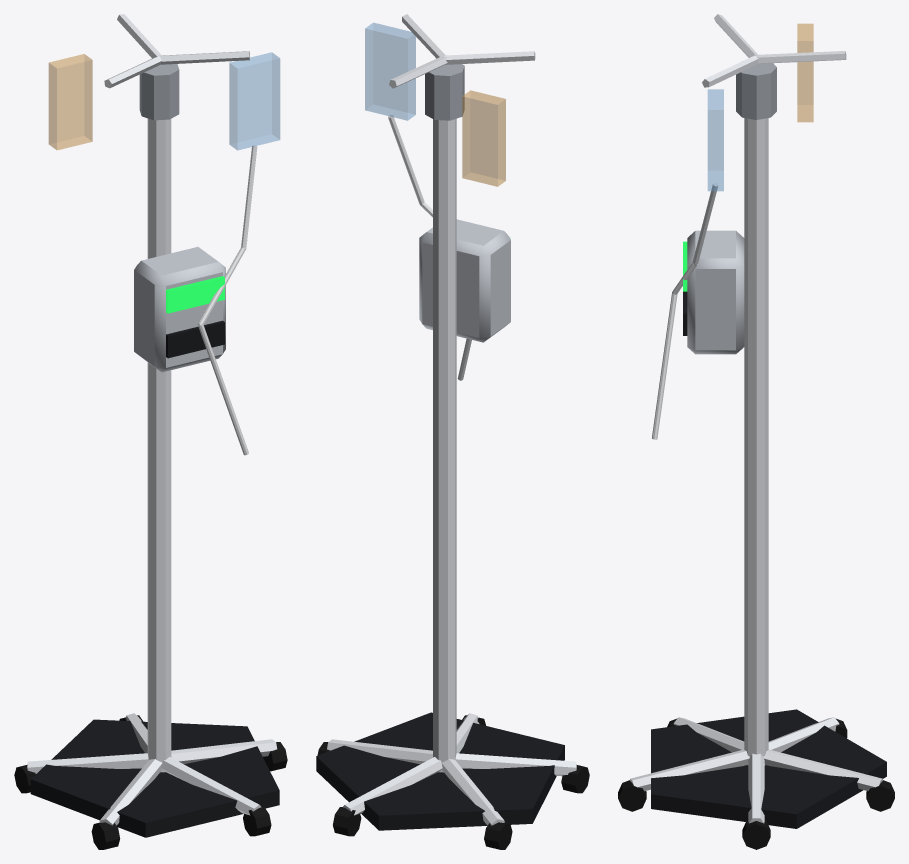
File: medsupply_iv_stand.glb
3 views of the same model, side by side, from view 1: azimuth 30°, elevation 25°; view 2: azimuth 150°, elevation 25°; view 3: azimuth 270°, elevation 25° (orthographic).
Visible parts, largest first — view 1: medsupply_iv_stand; view 2: medsupply_iv_stand; view 3: medsupply_iv_stand.
Boxes of the visible parts, left/top/right/bottom form: medsupply_iv_stand: left=14, top=14, right=287, bottom=849; medsupply_iv_stand: left=316, top=14, right=589, bottom=849; medsupply_iv_stand: left=618, top=14, right=894, bottom=849.
Size of the model in its own units: 0.6443 by 2.01 by 0.6787.
